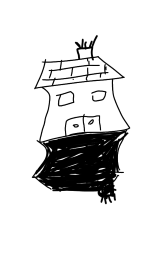door: (61, 113, 110, 138)
open_window: (55, 88, 77, 108), (88, 87, 109, 105)
roof: (32, 54, 127, 91)
shadow: (30, 127, 138, 205)
smoking_chimney: (71, 32, 103, 62)
wall: (41, 77, 130, 140)
